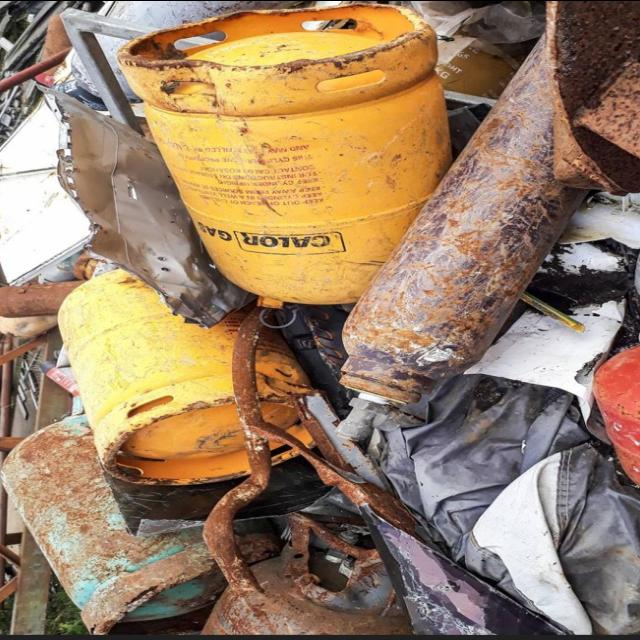cylinder: (335, 29, 590, 441), (115, 2, 452, 308), (1, 411, 229, 634), (57, 268, 251, 484)
